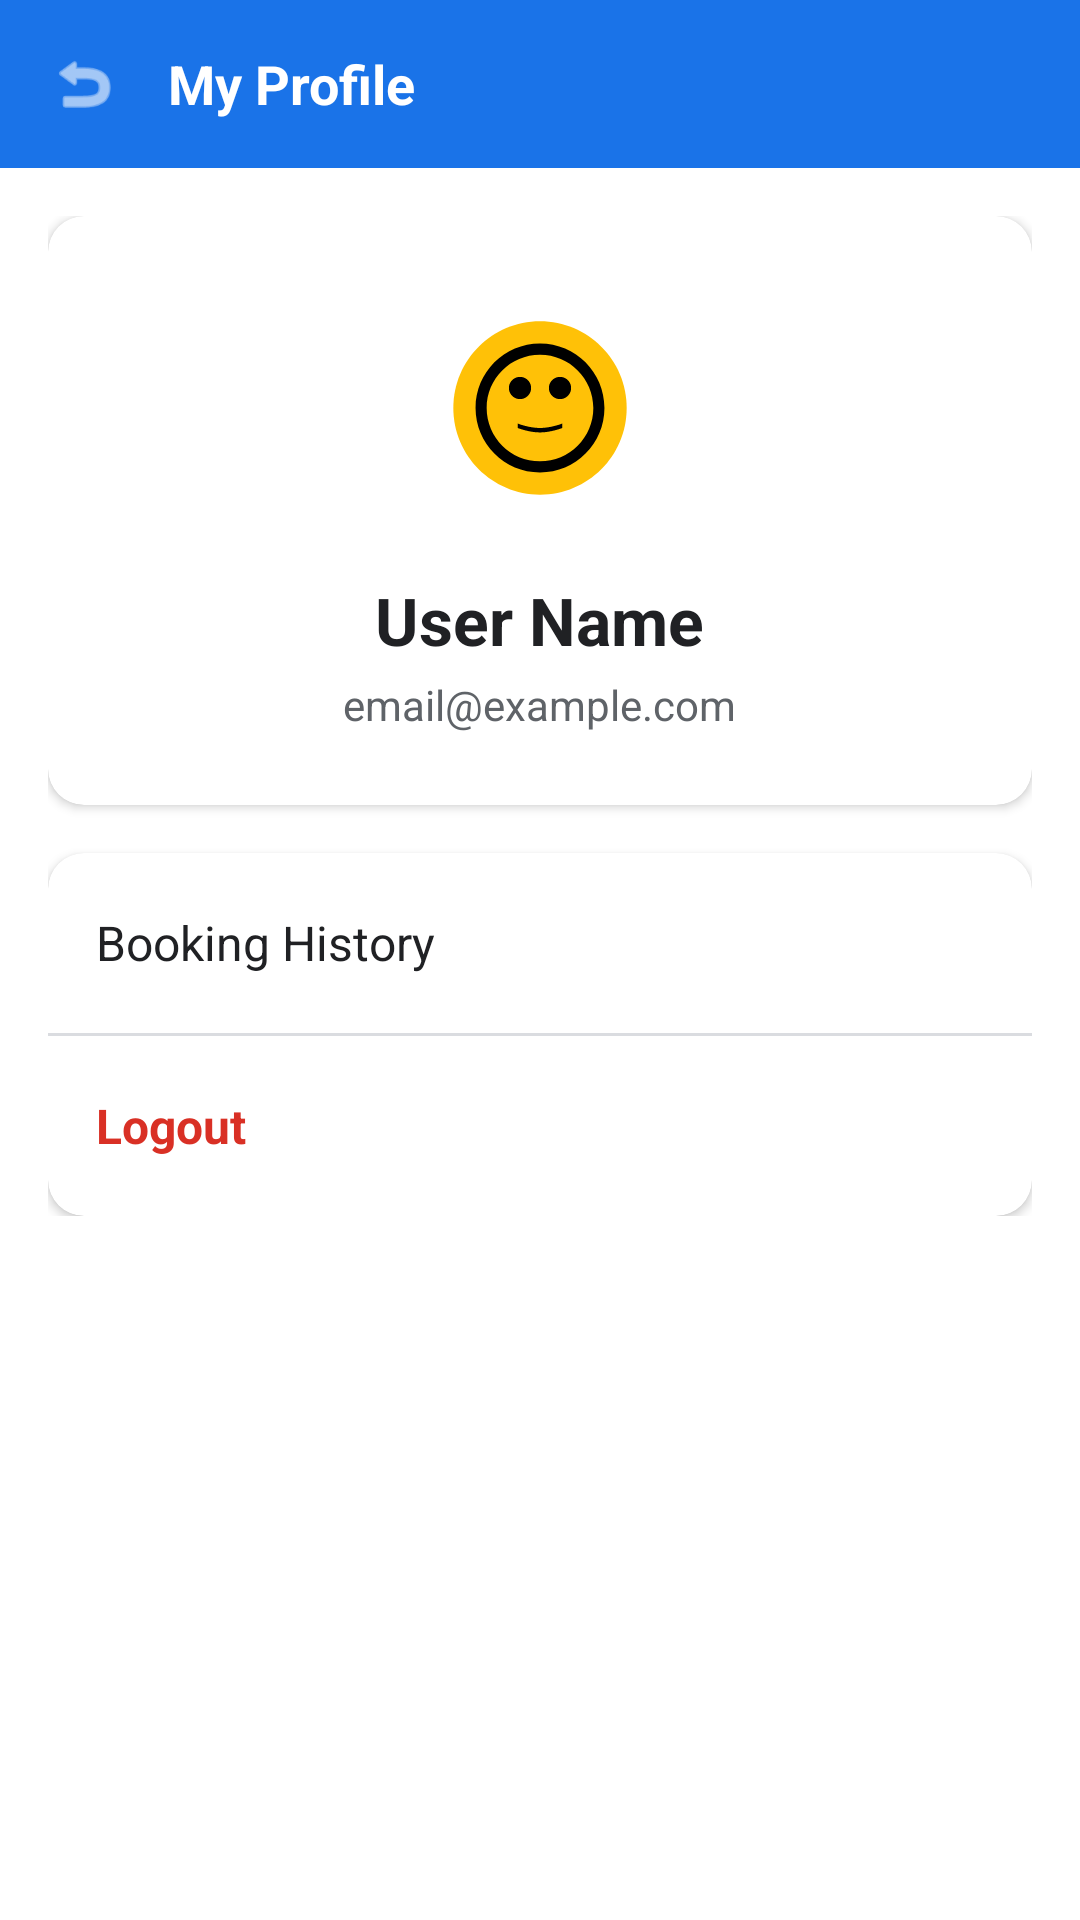

Named icons in this screenshot (1080w x 1920h) and their bounding boxes, (x1, y1, x2, y2):
Back: (59, 61, 111, 108)
